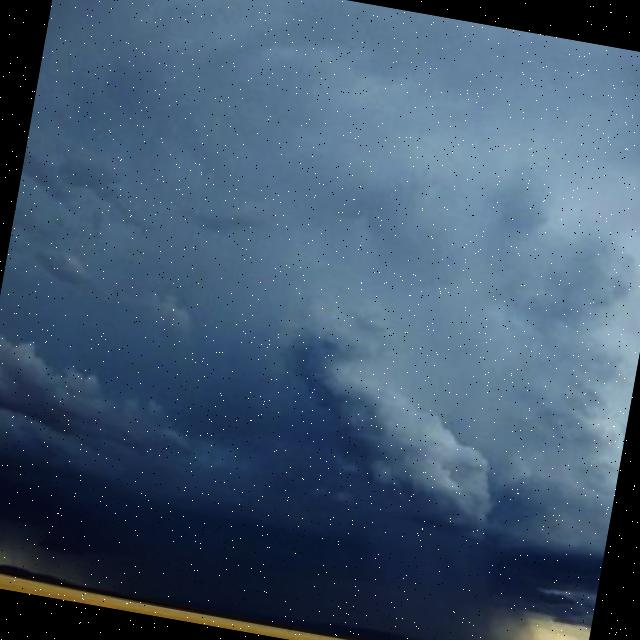Cb: (1, 53, 640, 640)
